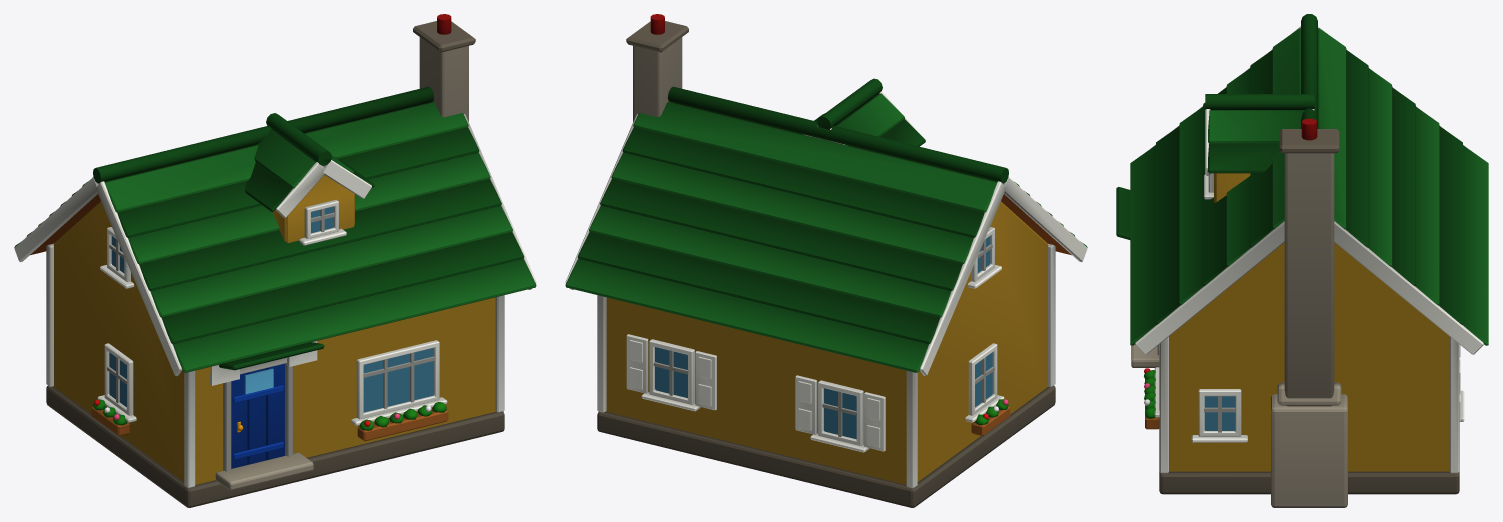
Rendered from House_B.fbx.
3 views of the same model, side by side, from view 1: azimuth 30°, elevation 25°; view 2: azimuth 150°, elevation 25°; view 3: azimuth 270°, elevation 25° (orthographic). The views are drawn at different scales.
Parts seen in each view (by area): view 1: House_B; view 2: House_B; view 3: House_B.
Boxes of the visible parts, left/top/right/bottom form: House_B: left=14, top=14, right=536, bottom=507; House_B: left=565, top=14, right=1087, bottom=507; House_B: left=1116, top=14, right=1488, bottom=507.
Bounding box in the file's own units: 5.2 × 4.9 × 4.37.
